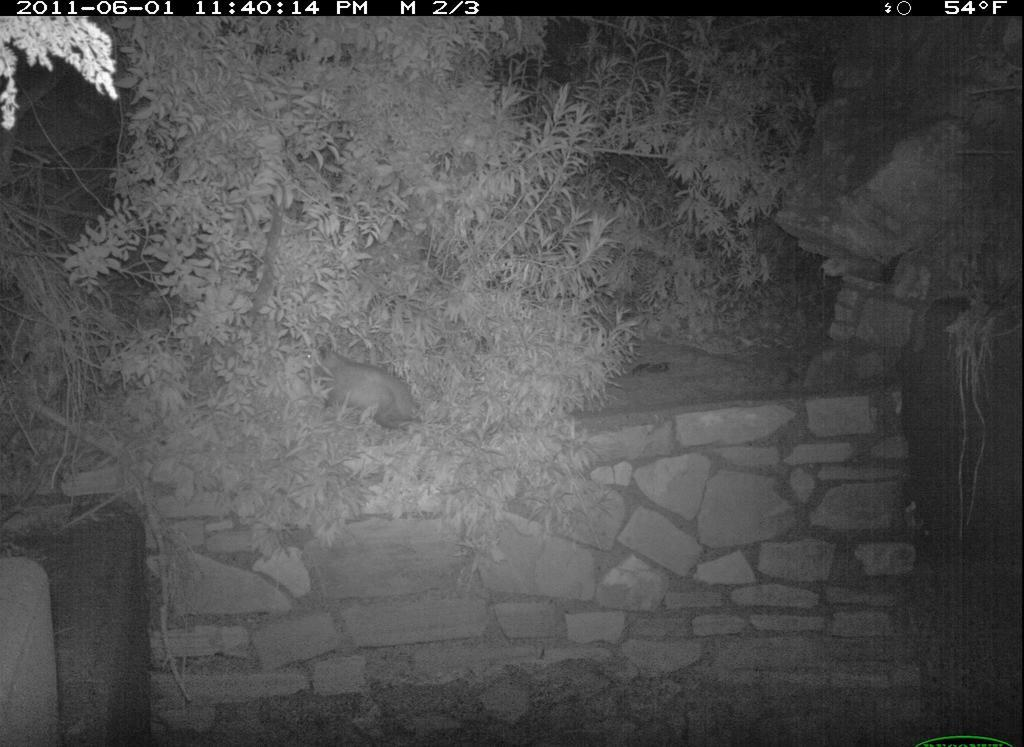opossum: (285, 339, 439, 433)
